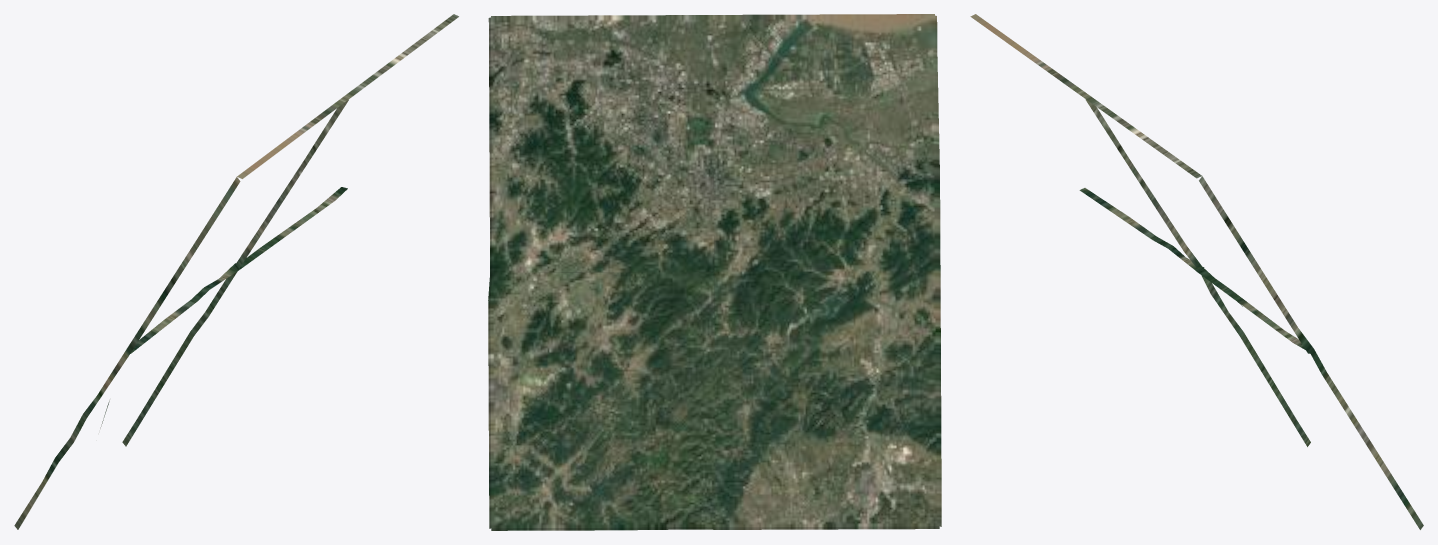
The picture shows the model from 3 angles, left to right: view 1: azimuth 30°, elevation 25°; view 2: azimuth 150°, elevation 25°; view 3: azimuth 270°, elevation 25°; orthographic projection.
Size of the model in its own units: 79191 by 68628 by 69116.
Materials: 1 (1 with a texture image).
